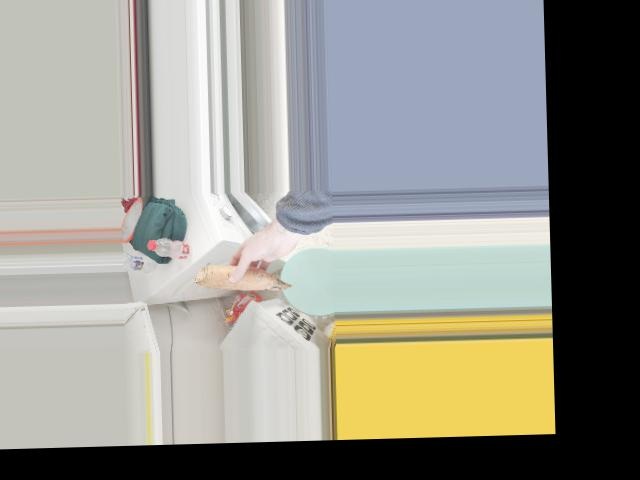sweet_potato: (200, 263, 290, 291)
